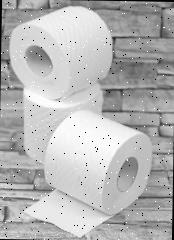paper: (5, 4, 155, 238), (44, 109, 154, 216), (8, 4, 114, 102), (22, 80, 104, 164), (22, 187, 117, 238)
